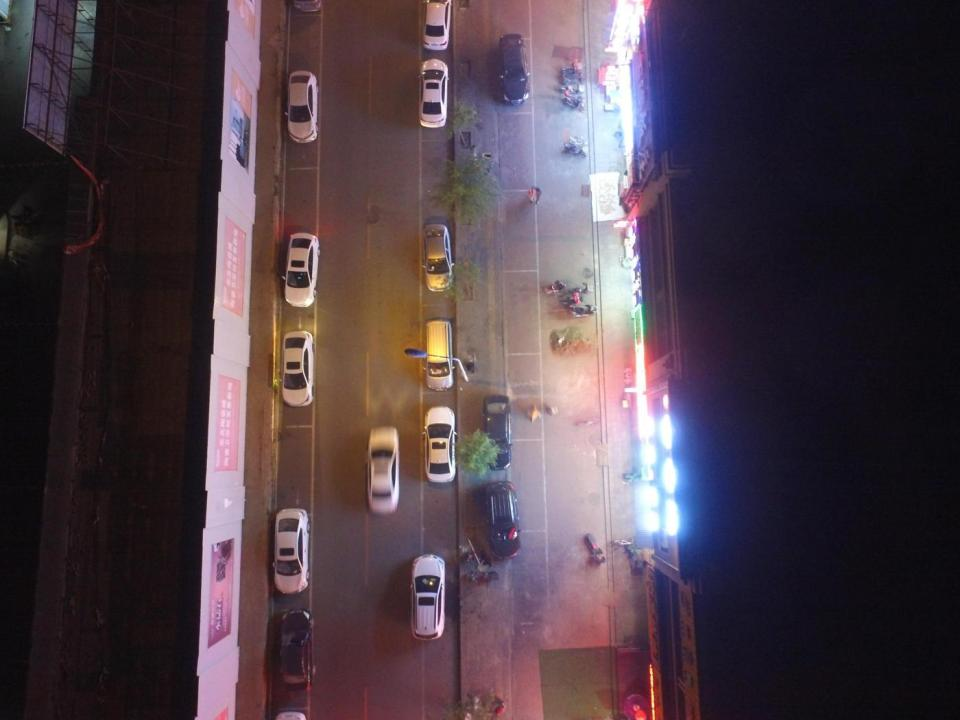car: (273, 508, 309, 594), (279, 608, 316, 691), (366, 426, 399, 514), (485, 481, 522, 559), (282, 232, 319, 306), (422, 406, 457, 483), (480, 395, 514, 469), (281, 331, 314, 407), (284, 71, 318, 142), (498, 33, 529, 106), (417, 59, 449, 128), (422, 224, 454, 292), (424, 1, 452, 49), (586, 532, 606, 564)
van: (410, 555, 445, 640), (423, 319, 454, 390)
